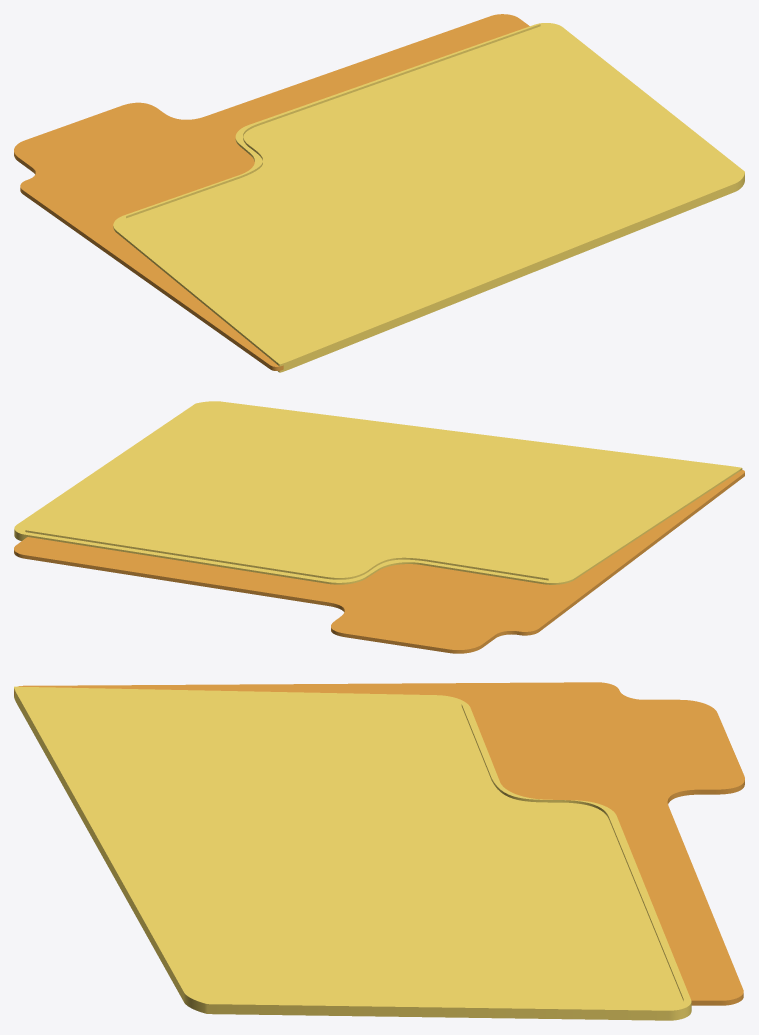
Rendered from emoji_u1f4c1.glb.
The picture shows the model from 3 angles, top to bottom: view 1: azimuth 30°, elevation 25°; view 2: azimuth 150°, elevation 25°; view 3: azimuth 270°, elevation 25°; orthographic projection. The views are drawn at different scales.
Parts seen in each view (by area): view 1: emoji_u1f4c1; view 2: emoji_u1f4c1; view 3: emoji_u1f4c1.
Boxes of the visible parts, x1,y1,x2,y2 form: emoji_u1f4c1: (14, 14, 744, 372); emoji_u1f4c1: (14, 401, 744, 653); emoji_u1f4c1: (14, 682, 744, 1020).
Size of the model in its own units: 0.0285 by 0.0006 by 0.0266.
